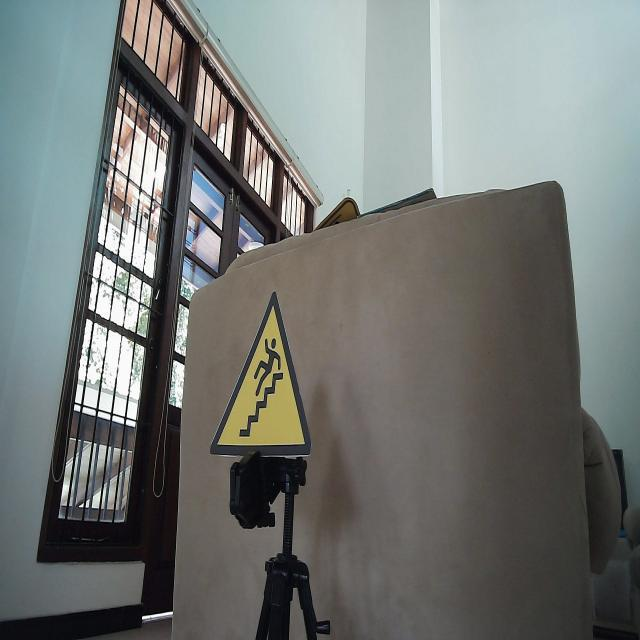stairs: (207, 287, 314, 460)
